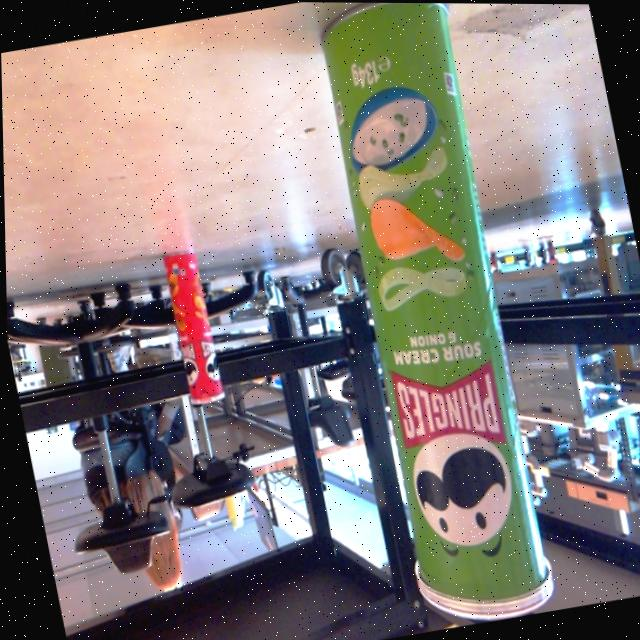greenpringles: (279, 2, 575, 635)
redpringles: (145, 244, 227, 414)
